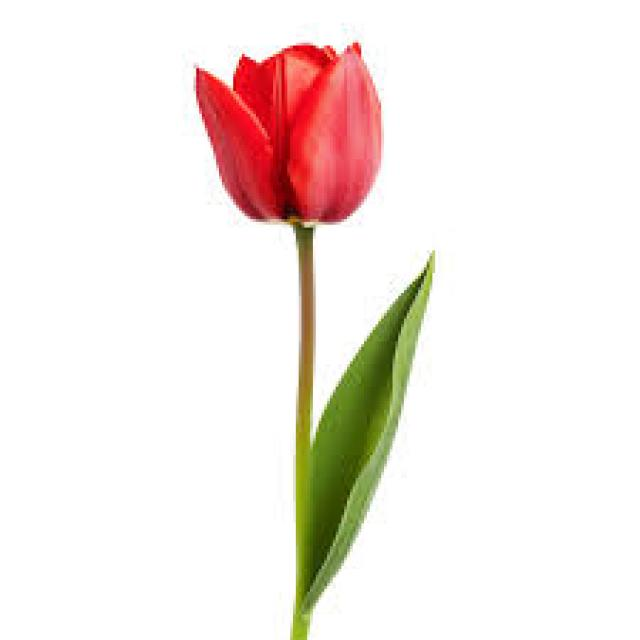tulip: (164, 25, 428, 264)
